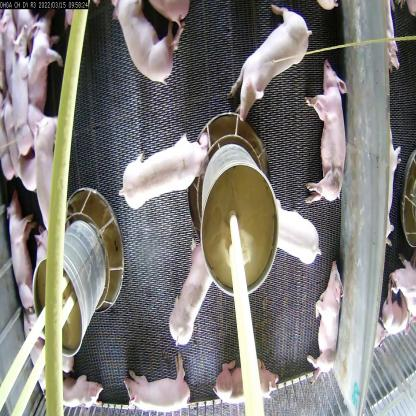Pig: (219, 0, 315, 120), (120, 128, 212, 220), (164, 231, 217, 372), (297, 57, 343, 216), (107, 0, 188, 80), (254, 201, 319, 280), (310, 263, 350, 385), (33, 119, 74, 235), (124, 363, 212, 416), (5, 34, 36, 164), (46, 365, 115, 416), (0, 207, 35, 307), (25, 21, 60, 116)
